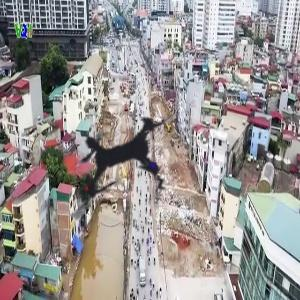drone: (16, 57, 228, 269)
